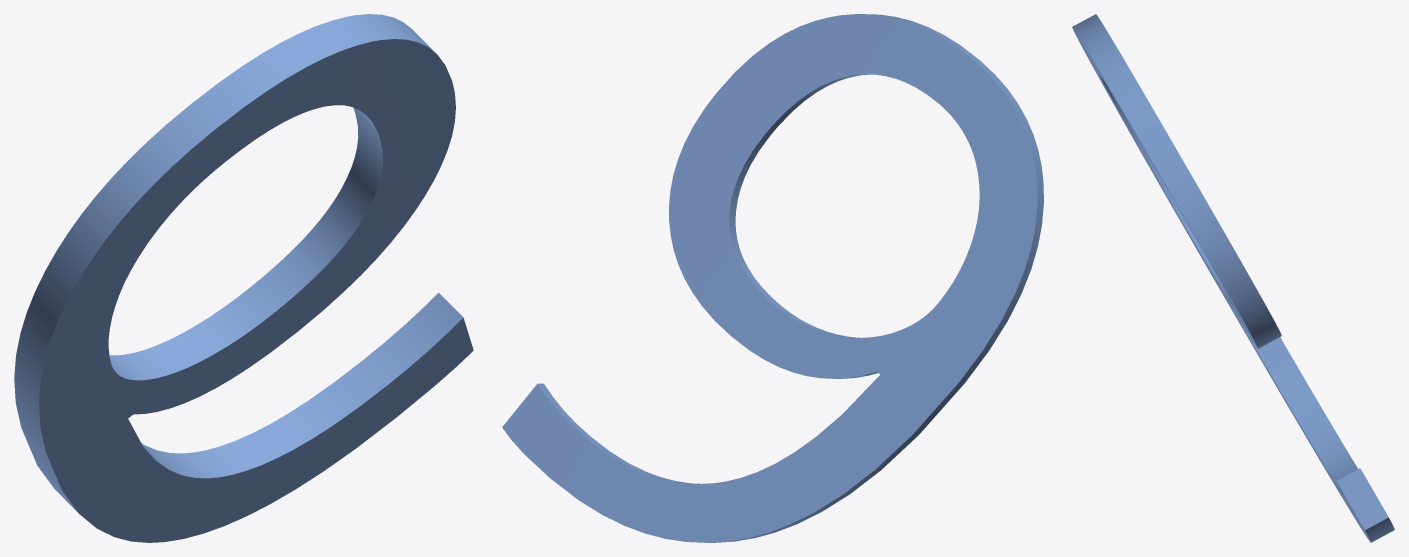
The model's file is New_Number_6.gltf.
3 views of the same model, side by side, from view 1: azimuth 30°, elevation 25°; view 2: azimuth 150°, elevation 25°; view 3: azimuth 270°, elevation 25° (orthographic). The views are drawn at different scales.
Visible parts, largest first — view 1: Part 564; view 2: Part 564; view 3: Part 564.
Boxes of the visible parts, x1,y1,x2,y2 form: Part 564: (14, 14, 473, 542); Part 564: (502, 14, 1043, 542); Part 564: (1072, 14, 1394, 542).
Bounding box in the file's own units: 0.00456 × 0.00472 × 0.00303.
